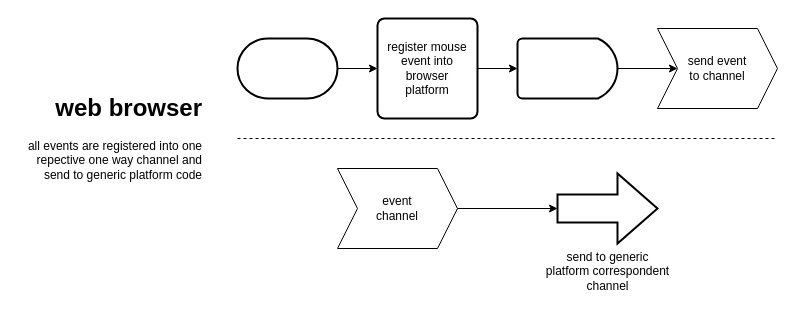
This 796x310 diagram has some shape labels left out. Here are the shapes that lost their labels. From the top down, the box of each, then its label:
(236, 37, 338, 99): início
(516, 37, 618, 99): wait mouse event
